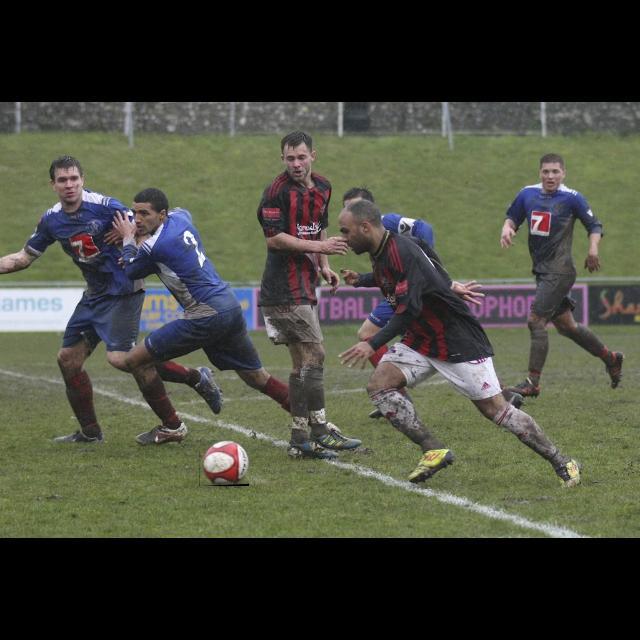Football: (199, 440, 249, 486)
